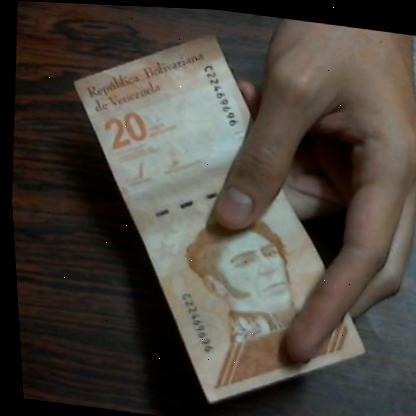twenty-front-vef: (23, 1, 406, 416)
